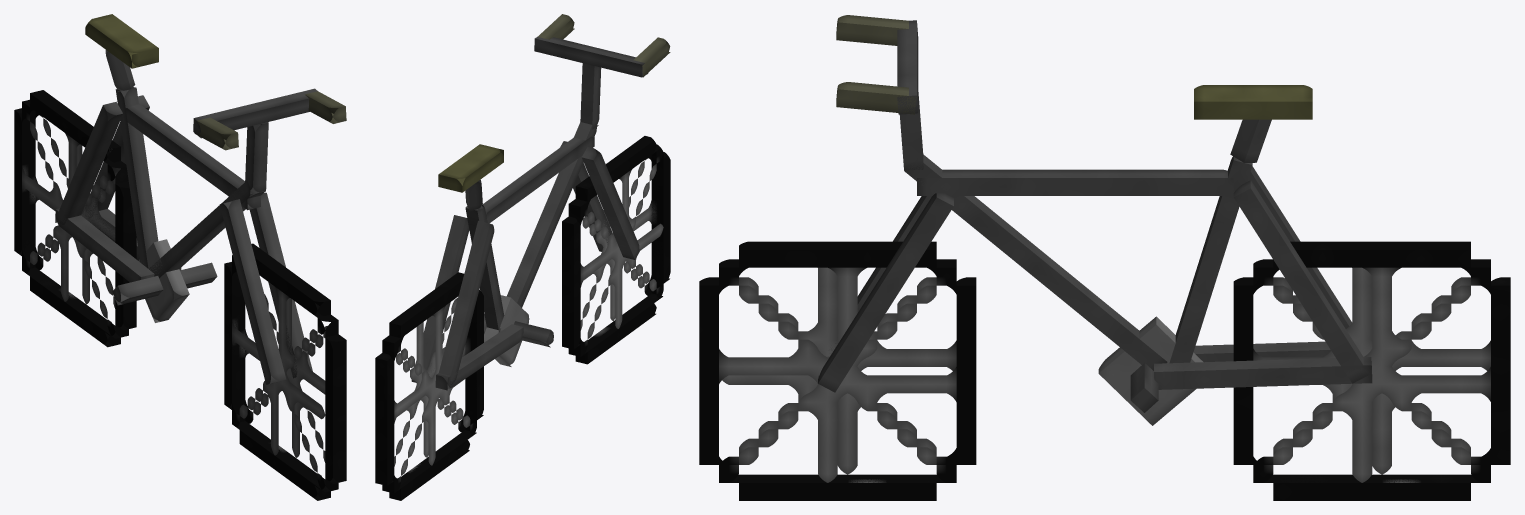
The model's file is bicycle.obj.
3 views of the same model, side by side, from view 1: azimuth 30°, elevation 25°; view 2: azimuth 150°, elevation 25°; view 3: azimuth 270°, elevation 25° (orthographic). The views are drawn at different scales.
Visible parts, largest first — view 1: lw, li, lt, lp, ln, lx, qp, lr, lo, lu, lC, ls (+14 smaller); view 2: lw, li, lu, qp, lm, lp, ly, lt, lC, qq, lr, lo (+14 smaller); view 3: lw, li, lp, lu, ls, qr, qq, lj, lz, ln, lk, lA (+15 smaller).
Part boxes in pixels (box(x1,y1,x2,y2)): lw: box(232, 255, 338, 492); li: box(22, 99, 128, 338); lt: box(219, 199, 286, 384); lp: box(124, 103, 260, 210); ln: box(115, 87, 158, 268); lx: box(325, 334, 346, 483); qp: box(56, 101, 122, 224); lr: box(85, 14, 158, 68); lo: box(55, 208, 154, 282); lu: box(149, 180, 265, 278); lC: box(193, 88, 317, 138); ls: box(249, 192, 312, 378); lw: box(568, 144, 663, 356); li: box(382, 298, 476, 493); lu: box(506, 122, 596, 307); qp: box(439, 220, 494, 384); lm: box(375, 353, 394, 485); lp: box(482, 136, 594, 223); ly: box(562, 216, 580, 349); lt: box(581, 147, 640, 259); lC: box(534, 37, 648, 77); qq: box(423, 215, 469, 369); lr: box(438, 144, 503, 192); lo: box(435, 324, 523, 390); lw: box(719, 259, 956, 482); li: box(1253, 259, 1490, 482); lp: box(917, 169, 1233, 195); lu: box(904, 154, 1167, 370); ls: box(818, 192, 953, 392); qr: box(1154, 357, 1372, 389); qq: box(1233, 180, 1369, 383); lj: box(1273, 241, 1470, 267); lz: box(739, 241, 936, 267); ln: box(1169, 156, 1252, 363); lk: box(1273, 474, 1470, 500); lA: box(739, 474, 936, 500).
Bounding box in the file's own units: 0.54 × 1.49 × 2.46.
1 material, 1 textured.
